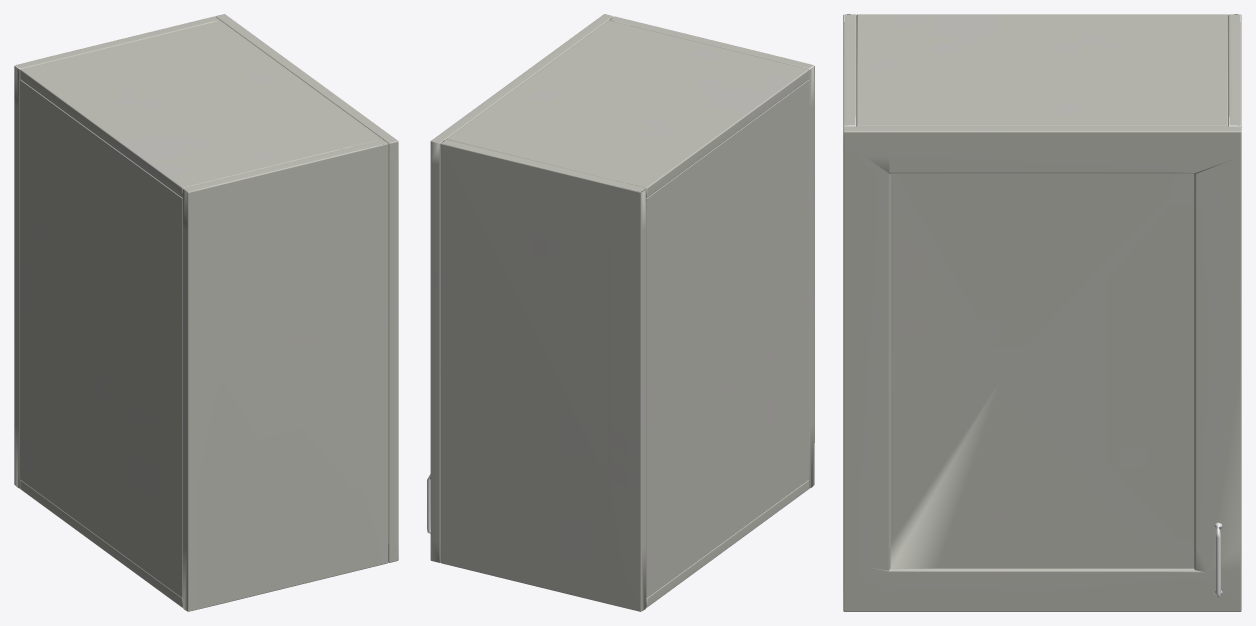
The model's file is fixture_cabinet_top_a01.glb.
The picture shows the model from 3 angles, left to right: view 1: azimuth 30°, elevation 25°; view 2: azimuth 150°, elevation 25°; view 3: azimuth 270°, elevation 25°; orthographic projection. The views are drawn at different scales.
Visible parts, largest first — view 1: sm_fixture_cabinet_top_a01_01; view 2: sm_fixture_cabinet_top_a01_01; view 3: sm_fixture_cabinet_top_a01_01.
Boxes of the visible parts, x1,y1,x2,y2 form: sm_fixture_cabinet_top_a01_01: [14, 14, 398, 611]; sm_fixture_cabinet_top_a01_01: [427, 14, 814, 611]; sm_fixture_cabinet_top_a01_01: [843, 14, 1241, 611].
Size of the model in its own units: 0.4461 by 0.7991 by 0.6.
5 materials, 5 textured.
